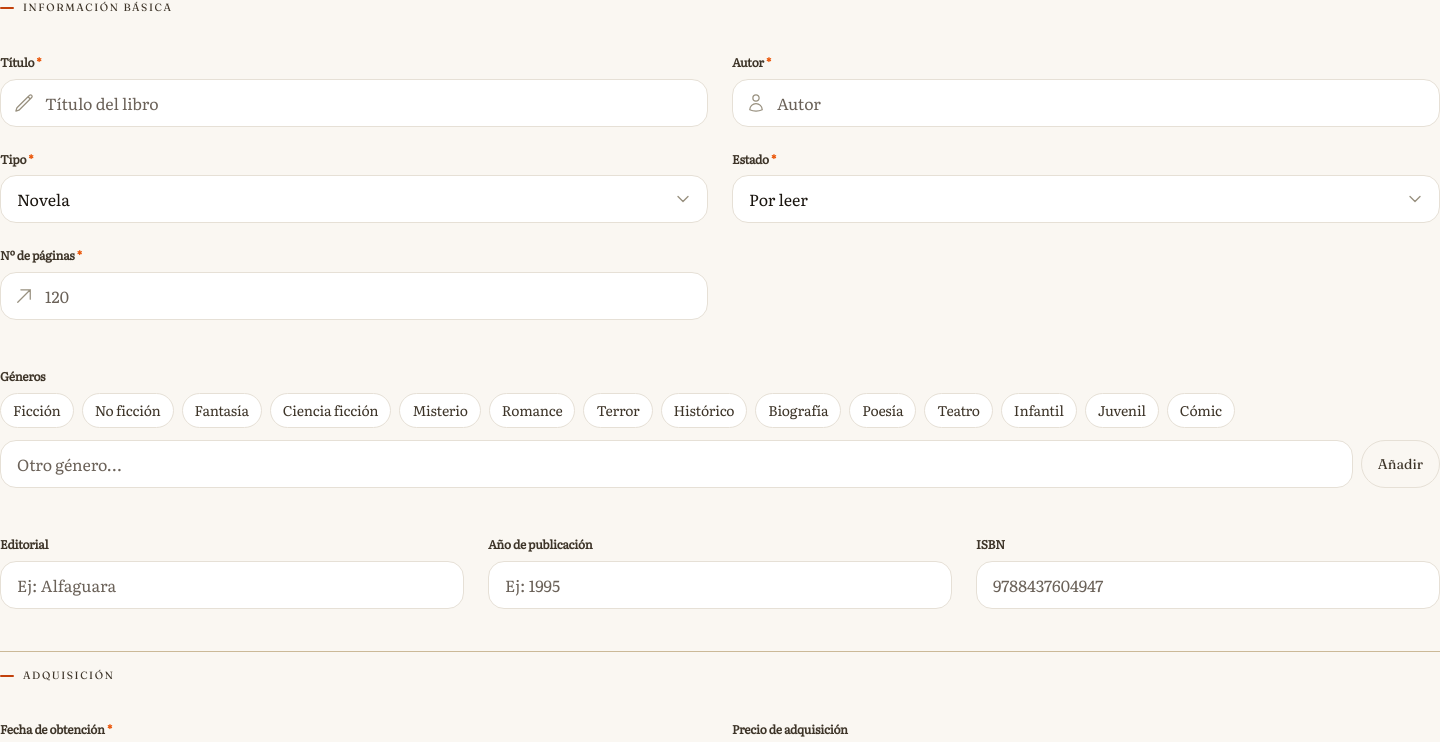
Test case: BookForm › avisa cuando las páginas leídas exceden el total
Select "Leyendo" in the dropdown showing "Por leer" below "Estado": (1086, 199) [732,175,1439,223]
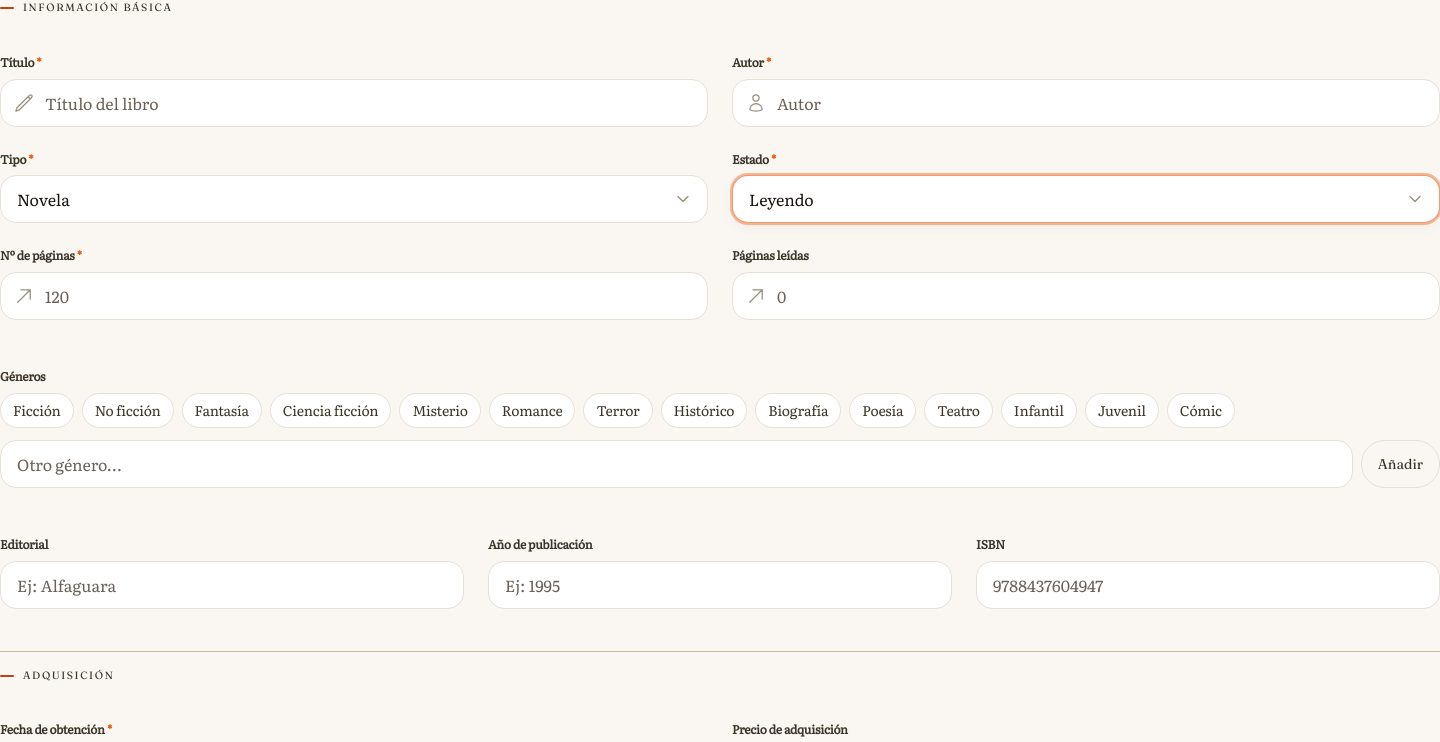
In the number field with placeholder "120": (354, 296) [0,272,708,320], type "100"
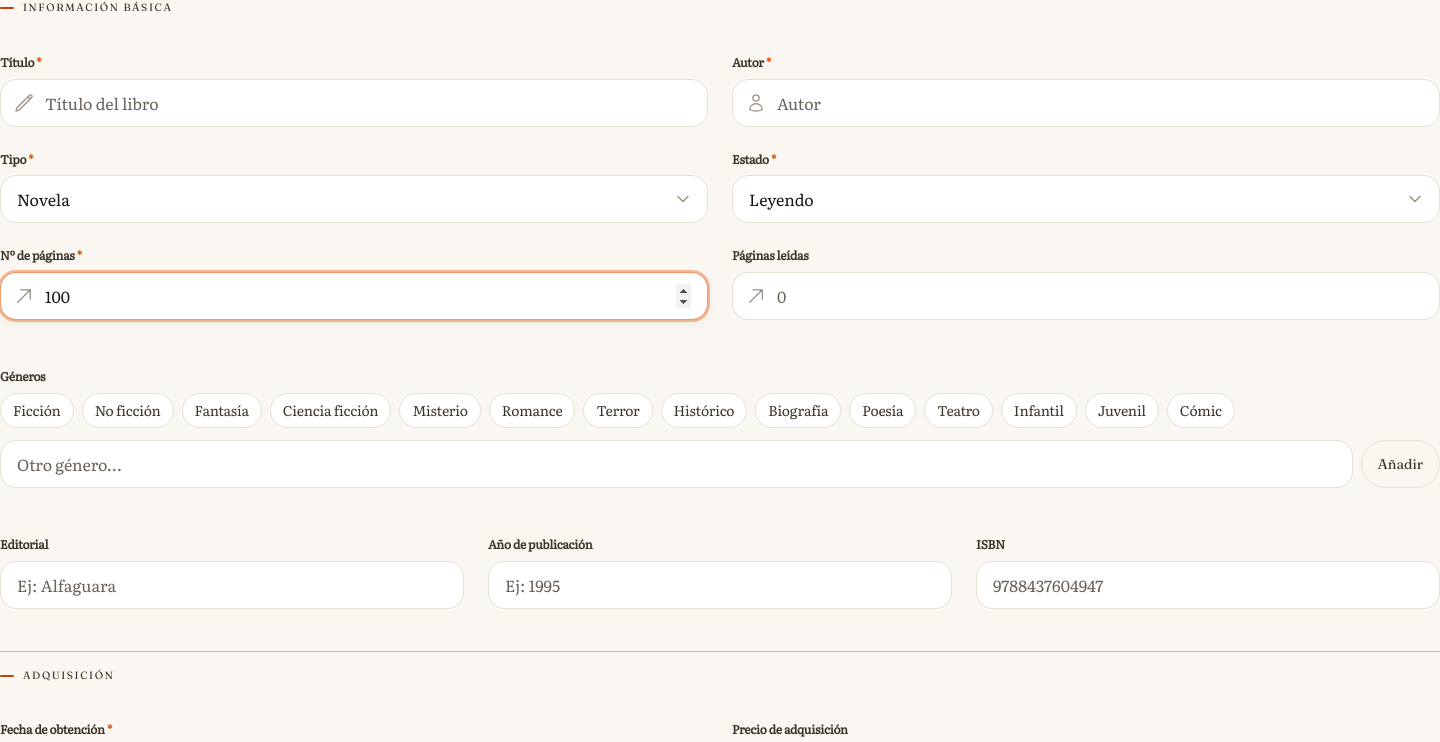
In the number field with placeholder "0": (1086, 296) [732,272,1439,320], type "150"
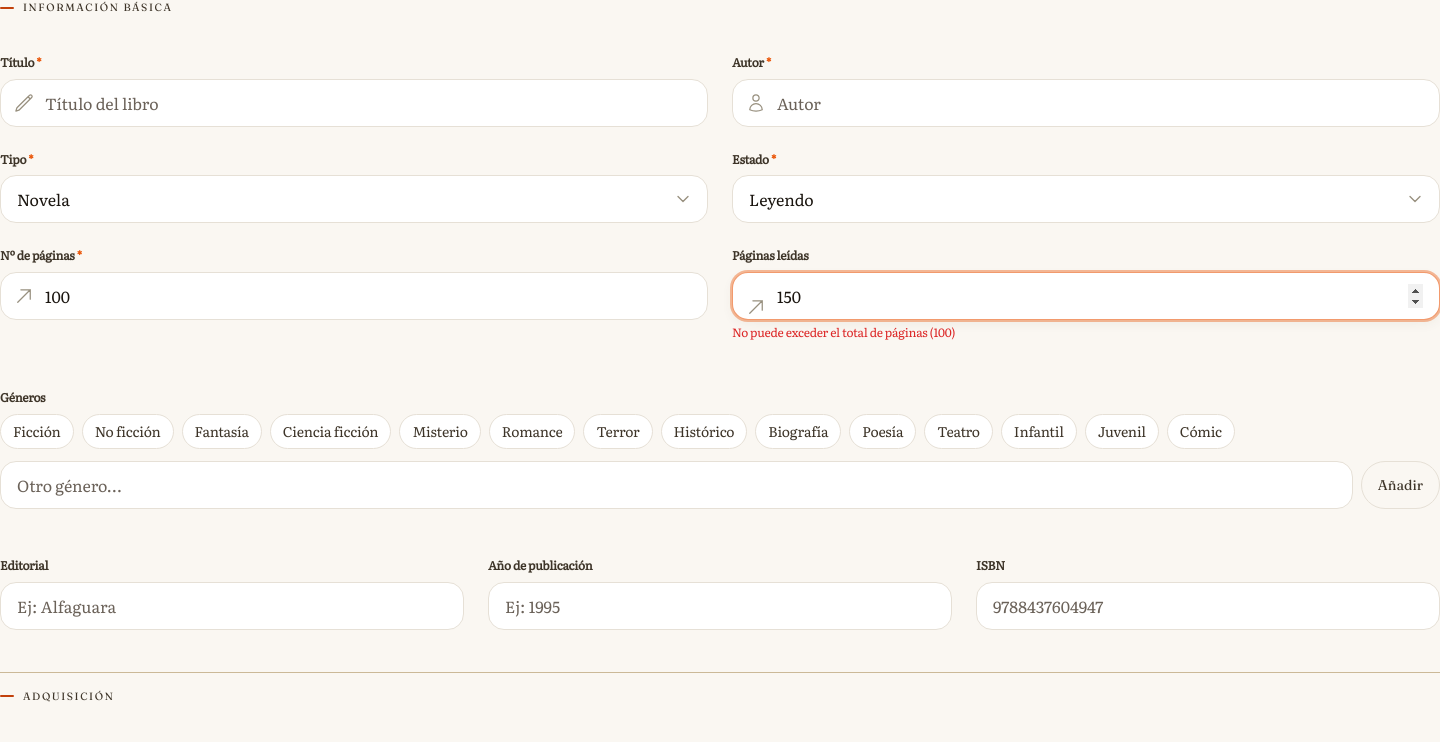
Now the text "No puede exceder el total de páginas (100)" is shown, box [732,323,955,341]
